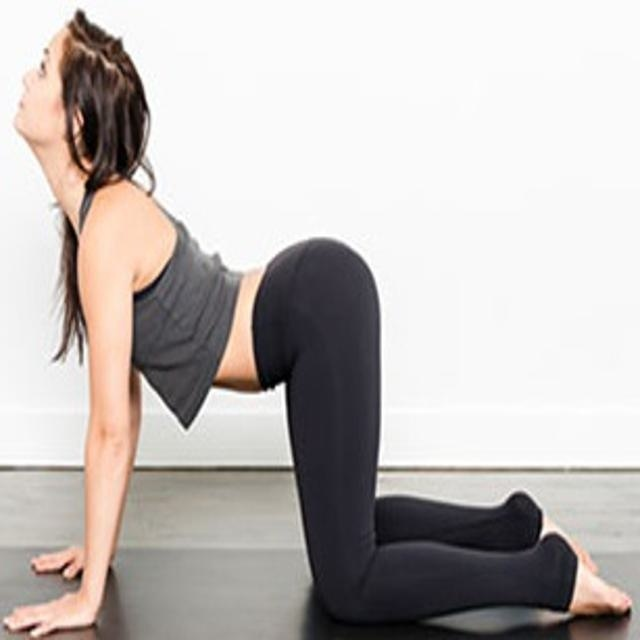Cow_Pose: (4, 17, 634, 635)
